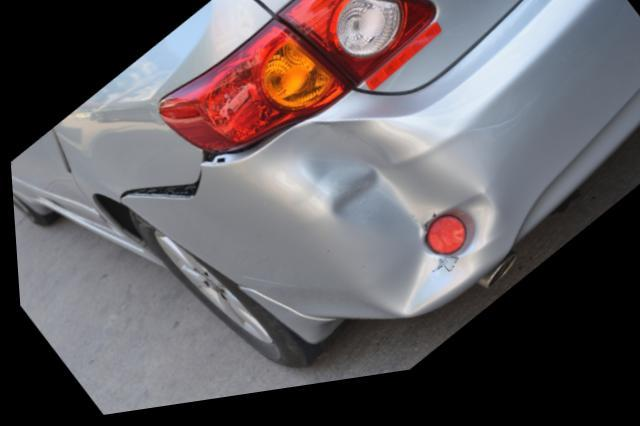dent: (261, 130, 491, 324)
dislocated part: (120, 128, 300, 207)
